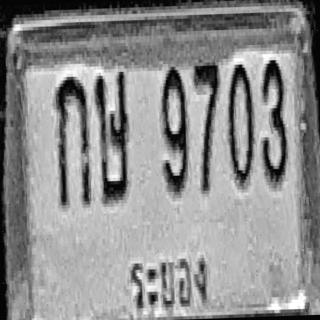A01: (54, 74, 91, 207)
A39: (93, 68, 131, 204)
N00: (225, 61, 255, 186)
N03: (258, 56, 288, 185)
N07: (192, 57, 223, 192)
N09: (159, 64, 189, 194)
P53: (119, 238, 210, 320)
